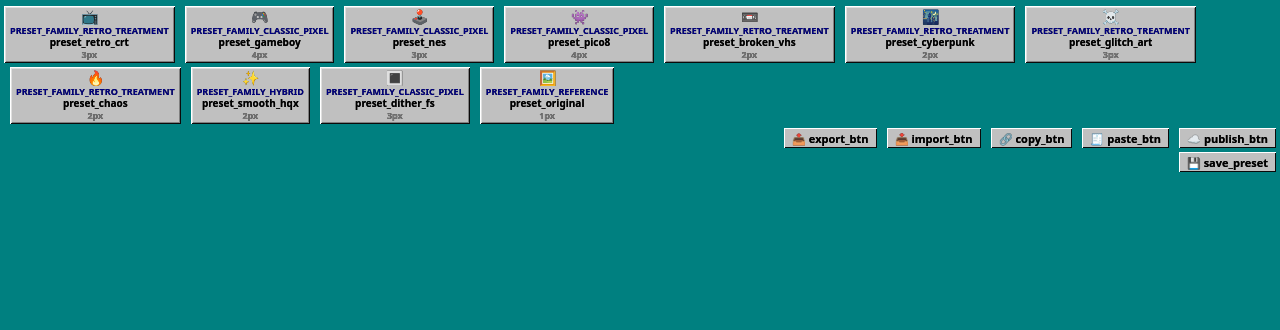
Scenario: PresetManager › publishes the current preset as a cloud preset
The width and height of the screenshot is (1280, 330).
Step 1. Click the button with test id "preset-cloud-open-publish" → (1228, 138), box [1179, 128, 1276, 148]
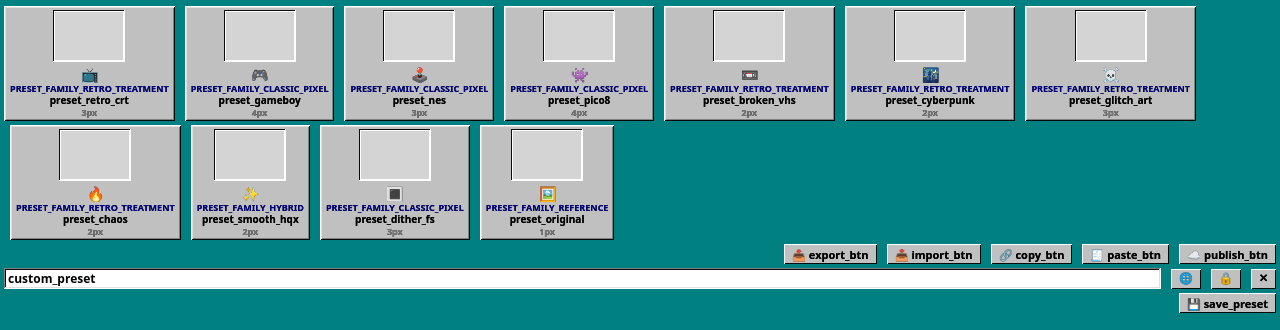
Step 2. Replace the text in the field with test id "preset-cloud-name-input" with "Cloud Ready" → (582, 278), box [4, 268, 1161, 289]
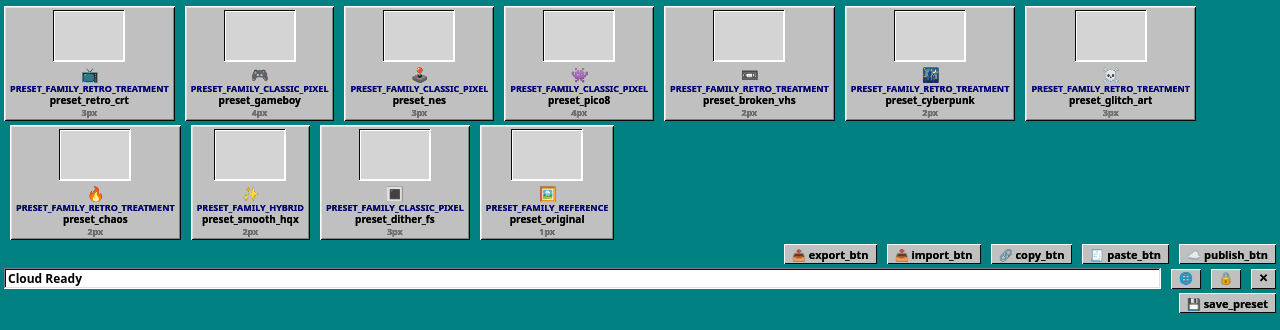
Step 3. Click the button with test id "preset-cloud-publish-public" → (1186, 278), box [1171, 268, 1201, 288]
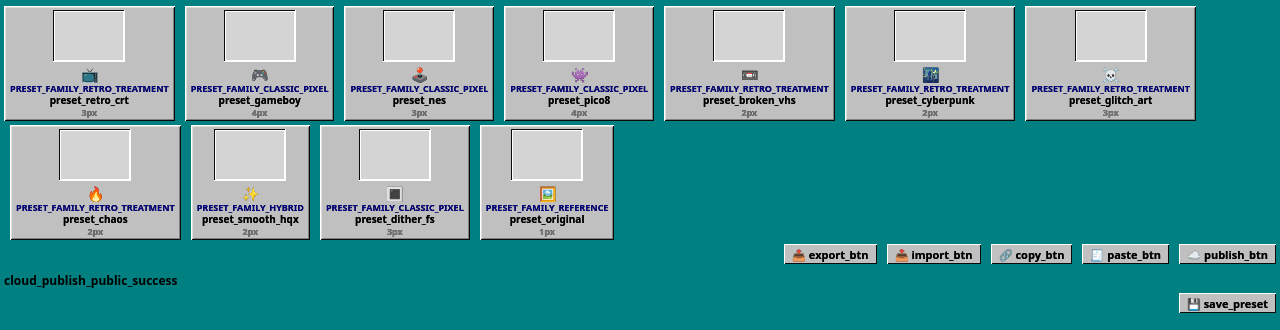
Check: the text "cloud_publish_public_success" is shown, box [4, 272, 178, 289]
